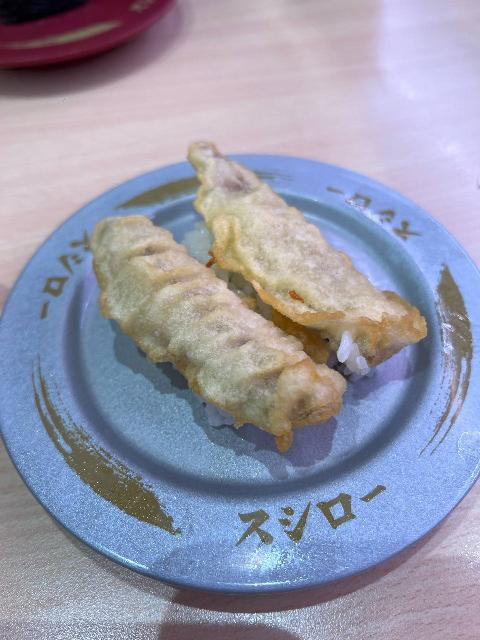janred: (2, 3, 162, 65)
janwhite: (4, 172, 460, 561)
